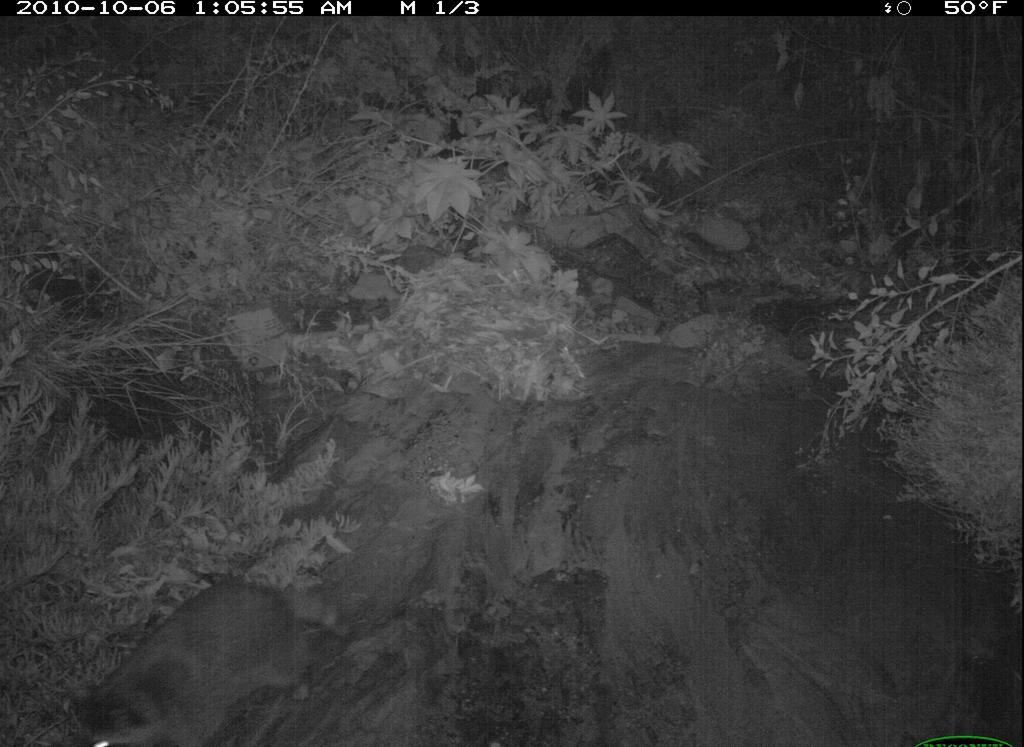raccoon: (67, 570, 356, 744)
